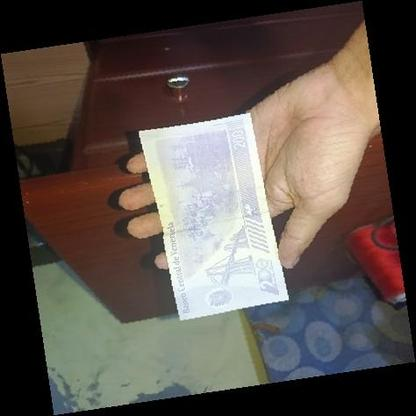two_hundred-back-vef: (138, 113, 289, 322)
